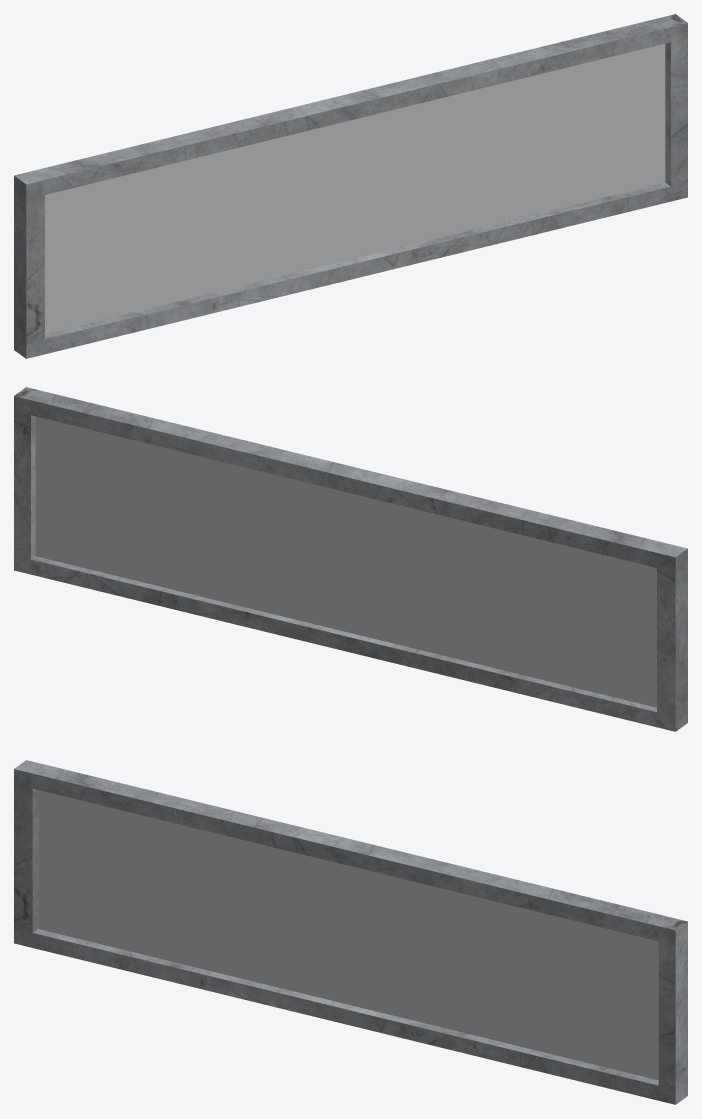
Rendered from SM_BuildGlass3.fbx.
3 views of the same model, one above another, from view 1: azimuth 30°, elevation 25°; view 2: azimuth 150°, elevation 25°; view 3: azimuth 330°, elevation 25° (orthographic).
Visible parts, largest first — view 1: SM_BuildGlass3; view 2: SM_BuildGlass3; view 3: SM_BuildGlass3.
Boxes of the visible parts, x1=… form: SM_BuildGlass3: x1=14, y1=14, x2=687, y2=358; SM_BuildGlass3: x1=14, y1=387, x2=687, y2=731; SM_BuildGlass3: x1=14, y1=760, x2=687, y2=1104.
Bounding box in the file's own units: 187 × 6 × 47.12.
Materials: 2 (1 with a texture image).
